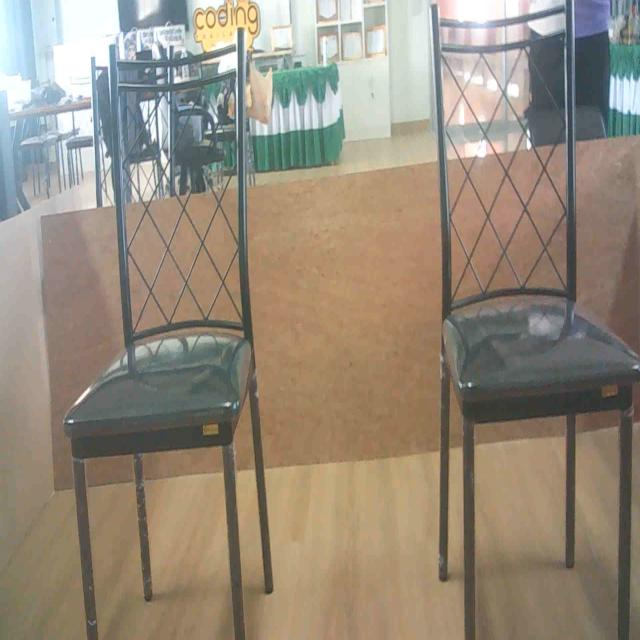empty: (414, 0, 640, 422), (61, 30, 258, 456)
